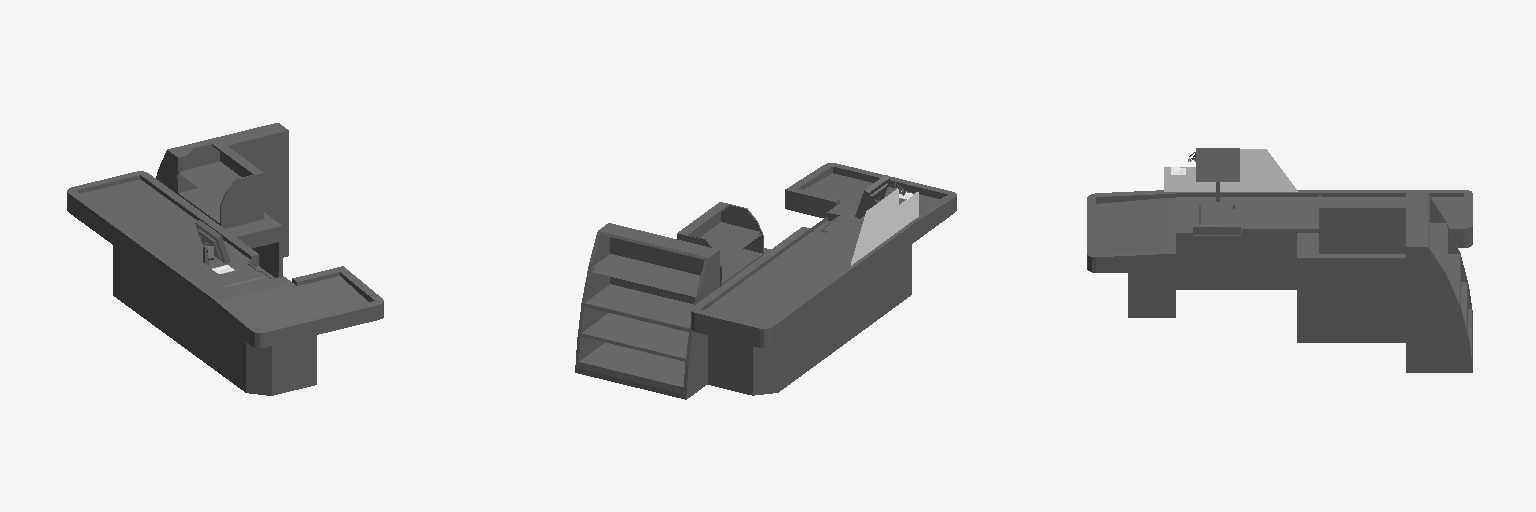
The model's file is checkOut.obj.
3 renders of one model, left to right at view 1: azimuth 30°, elevation 25°; view 2: azimuth 150°, elevation 25°; view 3: azimuth 270°, elevation 25°, orthographic.
Parts seen in each view (by area): view 1: checkOut; view 2: checkOut; view 3: checkOut.
Boxes of the visible parts, x1,y1,x2,y2 form: checkOut: [67, 123, 383, 395]; checkOut: [575, 163, 956, 399]; checkOut: [1087, 148, 1472, 372].
Size of the model in its own units: 2.02 by 1.4 by 3.5.